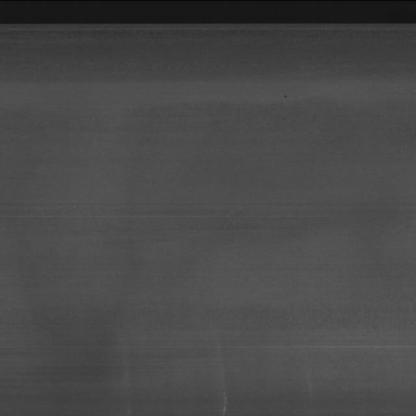inclusion: (278, 94, 293, 99)
